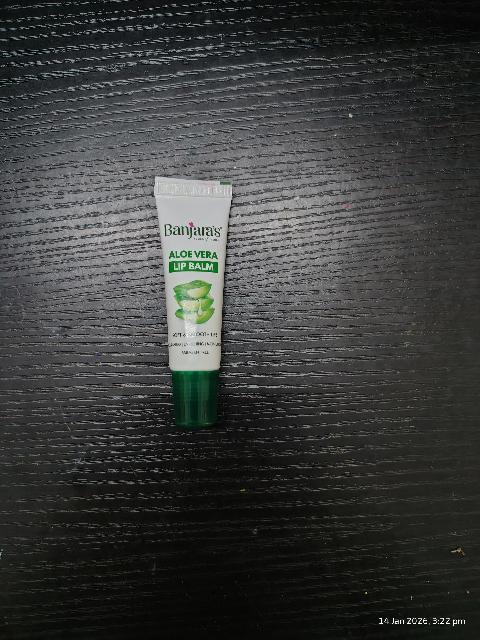banjaras lipbam: (151, 176, 233, 431)
